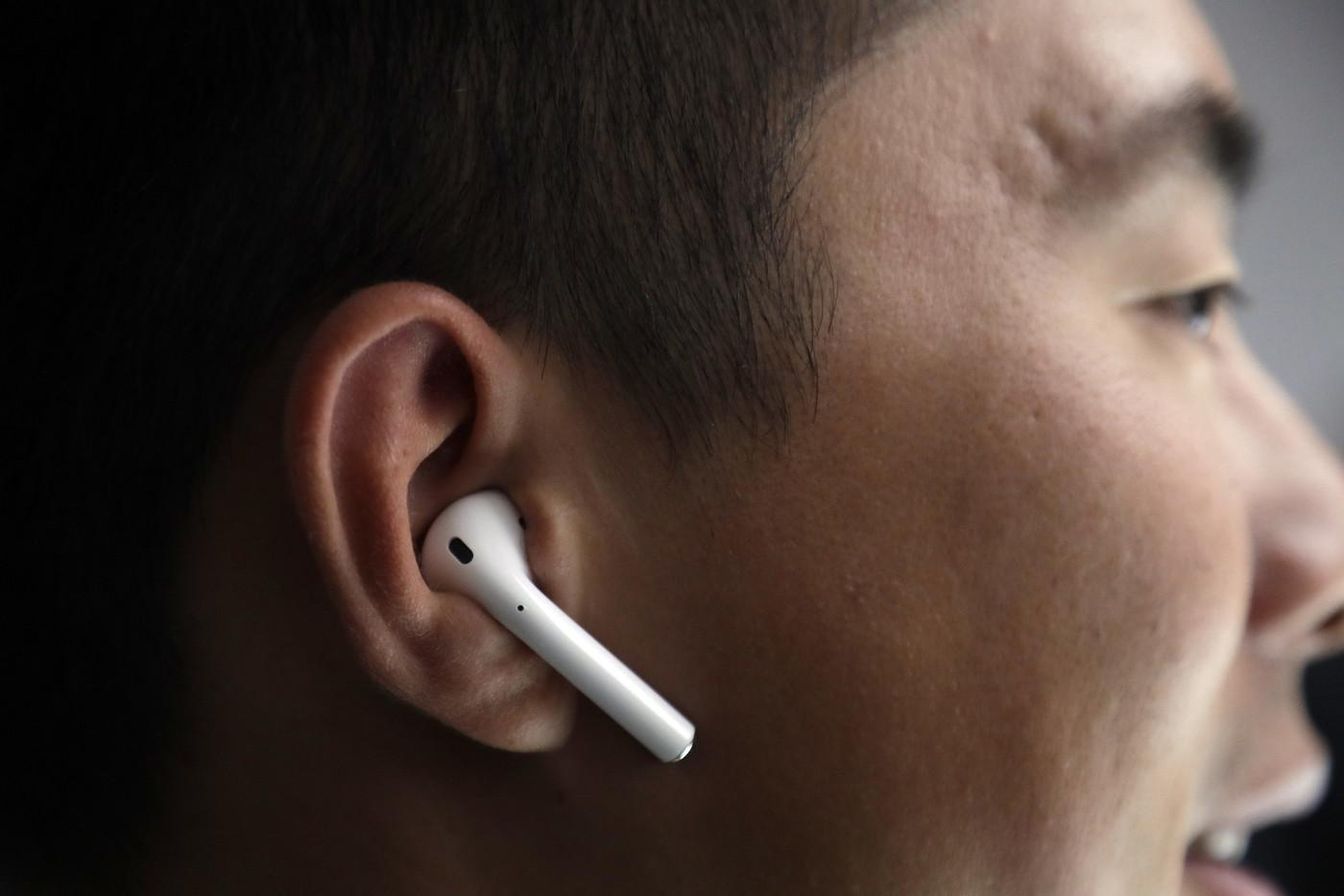earphone: (401, 473, 744, 780)
